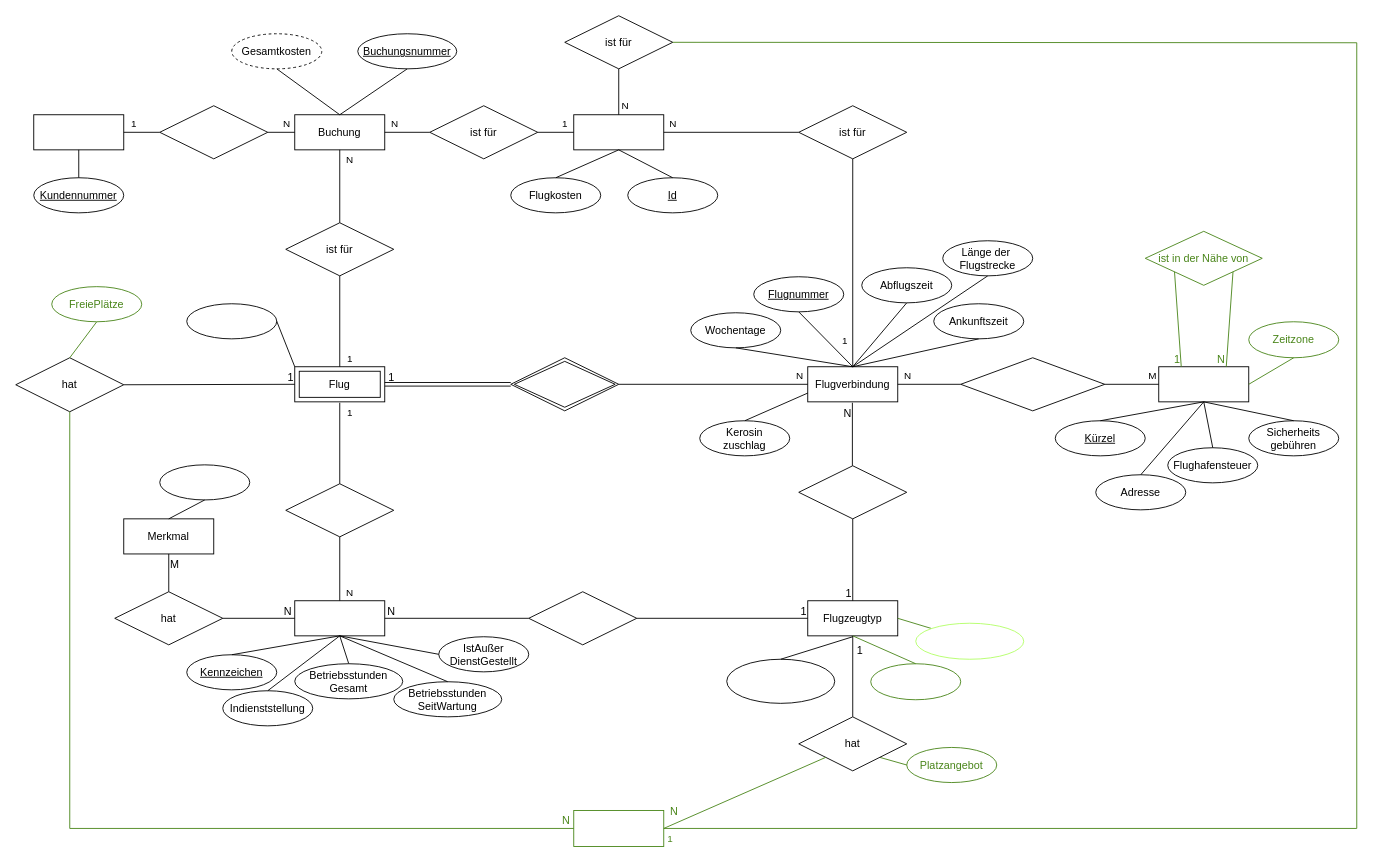
This 1373x862 diagram has some shape labels left out. Each missing label, with the centre of its shape:
"bedient (genau 2)" belongs at [1032,384].
"bucht" belongs at [213,132].
"Buchungsklasse" belongs at [618,828].
"charakterisiert" belongs at [582,618].
"Datum" belongs at [231,321].
"Flughafen" belongs at [1203,384].
"Flugzeug" belongs at [339,618].
"führt durch" belongs at [339,510].
"Hersteller" belongs at [915,681].
"Kunde" belongs at [78,132].
"MaxBetriebsstunden" belongs at [969,640].
"Modellbezeichnung" belongs at [780,680].
"Name" belongs at [204,482].
"prägt aus" belongs at [564,384].
"Tarif" belongs at [618,132].
"wird eingesetzt" belongs at [852,492].
